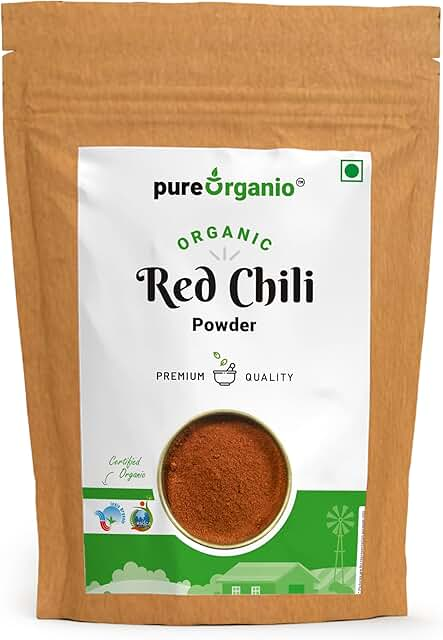Chilli Powder: (2, 3, 443, 632)
